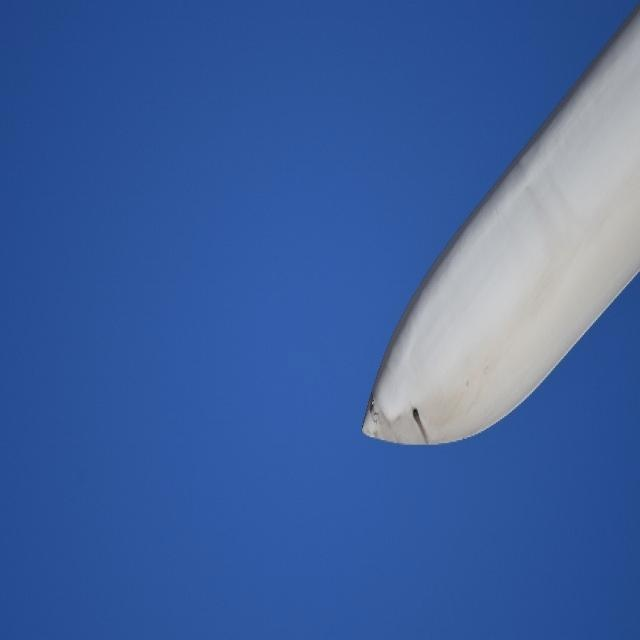Burn Mark: (412, 404, 431, 446)
Coating_defects: (364, 392, 382, 432)
